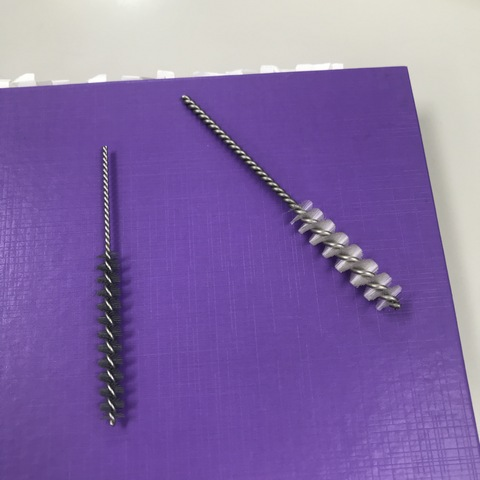Twist Brush-A: (91, 141, 127, 428)
Twist Brush-B: (176, 89, 405, 318)
